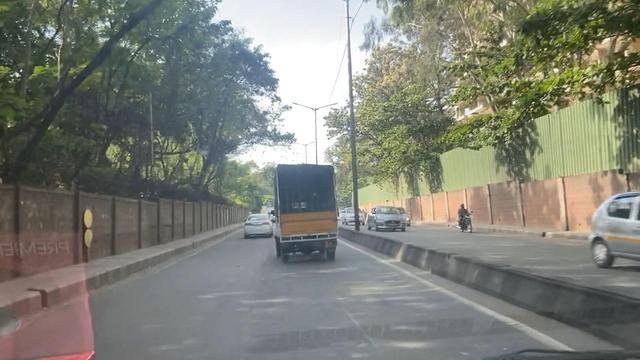HMV: (264, 153, 348, 269)
